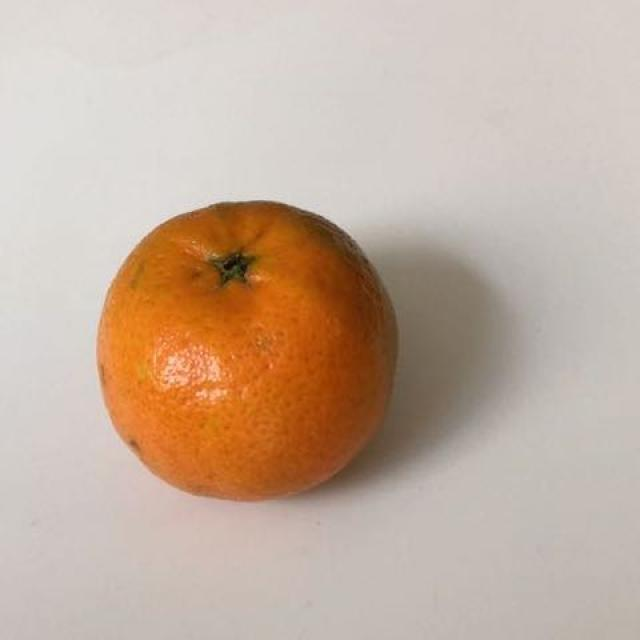Orange: (88, 192, 412, 516)
